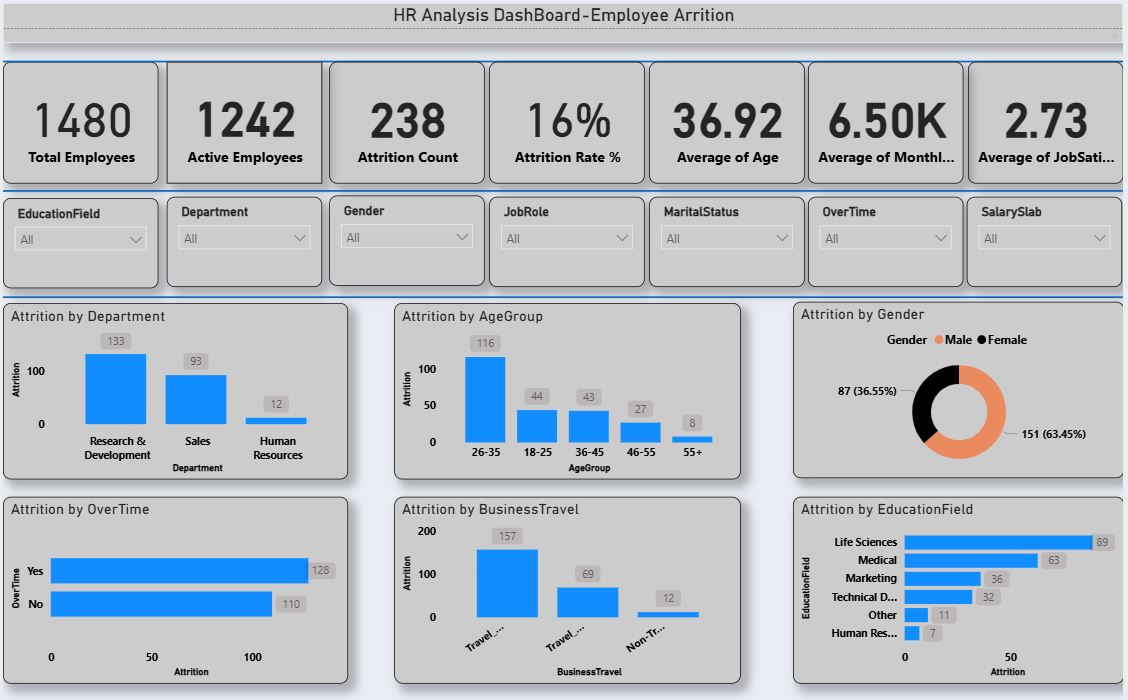

What the dashboard file says about the page in this screenshot:
{"tool":"powerbi","page":{"name":"Employee Attrition","canvas":[1280,800],"ordinal":0},"visuals":[{"type":"textbox","title":"HR Analysis DashBoard-Employee  Arrition","box":[0,0,1280.3,45.3],"z":0},{"type":"card","fields":{"Values":["HR_Measure.Total Employees"]},"box":[0,66.7,177.9,139],"z":1000},{"type":"shape","box":[0,58.4,1280.3,16.7],"z":2000},{"type":"card","fields":{"Values":["Avg(HR_Analytics.JobSatisfaction)"]},"box":[1102.3,66.7,177.9,139],"z":3000},{"type":"card","fields":{"Values":["HR_Measure.Attrition"]},"box":[372.5,66.7,177.9,139],"z":4000},{"type":"card","fields":{"Values":["HR_Measure.Attrition Rate %"]},"box":[556,66.7,177.9,139],"z":5000},{"type":"card","fields":{"Values":["Avg(HR_Analytics.Age)"]},"box":[738.1,66.7,177.9,139],"z":6000},{"type":"card","fields":{"Values":["Avg(HR_Analytics.MonthlyIncome)"]},"box":[920.2,66.7,177.9,139],"z":7000},{"type":"card","fields":{"Values":["HR_Measure.Active Employees"]},"box":[187.7,66.7,177.9,139],"z":8000},{"type":"shape","box":[0,208.3,1280,12.4],"z":9000},{"type":"clusteredColumnChart","fields":{"Category":["HR_Analytics.Department"],"Y":["HR_Measure.Attrition"]},"box":[0,343.5,394.6,201.4],"z":10000},{"type":"columnChart","fields":{"Y":["HR_Measure.Attrition"],"Category":["HR_Analytics.AgeGroup"]},"box":[447,343.5,395.9,201.4],"z":11000},{"type":"donutChart","fields":{"Category":["HR_Analytics.Gender"],"Y":["HR_Measure.Attrition"]},"box":[902.3,342.1,378,201.4],"z":12000},{"type":"barChart","fields":{"Category":["HR_Analytics.OverTime"],"Y":["HR_Measure.Attrition"]},"box":[0,564.3,394.6,213.8],"z":13000},{"type":"barChart","fields":{"Category":["HR_Analytics.EducationField"],"Y":["HR_Measure.Attrition"]},"box":[902.3,564.3,378,213.8],"z":14000},{"type":"clusteredColumnChart","fields":{"Y":["HR_Measure.Attrition"],"Category":["HR_Analytics.BusinessTravel"]},"box":[447,564.3,395.9,213.8],"z":15000},{"type":"slicer","fields":{"Values":["HR_Analytics.EducationField"]},"box":[0,223.5,178,103.5],"z":15001},{"type":"slicer","fields":{"Values":["HR_Analytics.Department"]},"box":[187.6,222.1,178,103.5],"z":15002},{"type":"slicer","fields":{"Values":["HR_Analytics.Gender"]},"box":[372.5,219.4,178,103.5],"z":15004},{"type":"slicer","fields":{"Values":["HR_Analytics.JobRole"]},"box":[556,220.7,178,103.5],"z":15005},{"type":"slicer","fields":{"Values":["HR_Analytics.MaritalStatus"]},"box":[738.1,220.7,178,103.5],"z":15006},{"type":"slicer","fields":{"Values":["HR_Analytics.OverTime"]},"box":[920.2,222.1,178,103.5],"z":15007},{"type":"slicer","fields":{"Values":["HR_Analytics.SalarySlab"]},"box":[1102,220.7,178,103.5],"z":15008},{"type":"shape","box":[0,329.7,1280,12.4],"z":15009}]}

Visuals, with their boxes in screenshot pixels (x1, y1, x2, y2), scaled from the page's 1280x800 canvas onto the 1128x700 screenshot:
"HR Analysis DashBoard-Employee  Arrition" textbox: {"left": 0, "top": 0, "right": 1127, "bottom": 40}
card - HR_Measure.Total Employees: {"left": 0, "top": 58, "right": 157, "bottom": 180}
shape: {"left": 0, "top": 51, "right": 1127, "bottom": 66}
card - Avg(HR_Analytics.JobSatisfaction): {"left": 971, "top": 58, "right": 1127, "bottom": 180}
card - HR_Measure.Attrition: {"left": 328, "top": 58, "right": 485, "bottom": 180}
card - HR_Measure.Attrition Rate %: {"left": 490, "top": 58, "right": 647, "bottom": 180}
card - Avg(HR_Analytics.Age): {"left": 650, "top": 58, "right": 807, "bottom": 180}
card - Avg(HR_Analytics.MonthlyIncome): {"left": 811, "top": 58, "right": 968, "bottom": 180}
card - HR_Measure.Active Employees: {"left": 165, "top": 58, "right": 322, "bottom": 180}
shape: {"left": 0, "top": 182, "right": 1127, "bottom": 193}
clusteredColumnChart - HR_Analytics.Department x HR_Measure.Attrition: {"left": 0, "top": 301, "right": 348, "bottom": 477}
columnChart - HR_Measure.Attrition x HR_Analytics.AgeGroup: {"left": 394, "top": 301, "right": 743, "bottom": 477}
donutChart - HR_Analytics.Gender x HR_Measure.Attrition: {"left": 795, "top": 299, "right": 1127, "bottom": 476}
barChart - HR_Analytics.OverTime x HR_Measure.Attrition: {"left": 0, "top": 494, "right": 348, "bottom": 681}
barChart - HR_Analytics.EducationField x HR_Measure.Attrition: {"left": 795, "top": 494, "right": 1127, "bottom": 681}
clusteredColumnChart - HR_Measure.Attrition x HR_Analytics.BusinessTravel: {"left": 394, "top": 494, "right": 743, "bottom": 681}
slicer - HR_Analytics.EducationField: {"left": 0, "top": 196, "right": 157, "bottom": 286}
slicer - HR_Analytics.Department: {"left": 165, "top": 194, "right": 322, "bottom": 285}
slicer - HR_Analytics.Gender: {"left": 328, "top": 192, "right": 485, "bottom": 283}
slicer - HR_Analytics.JobRole: {"left": 490, "top": 193, "right": 647, "bottom": 284}
slicer - HR_Analytics.MaritalStatus: {"left": 650, "top": 193, "right": 807, "bottom": 284}
slicer - HR_Analytics.OverTime: {"left": 811, "top": 194, "right": 968, "bottom": 285}
slicer - HR_Analytics.SalarySlab: {"left": 971, "top": 193, "right": 1127, "bottom": 284}
shape: {"left": 0, "top": 288, "right": 1127, "bottom": 299}
